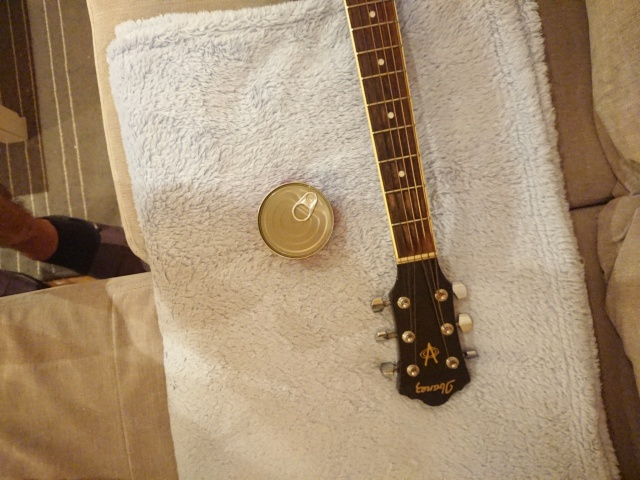Giana Tuna Salad Mexico 185g: (255, 180, 337, 262)
